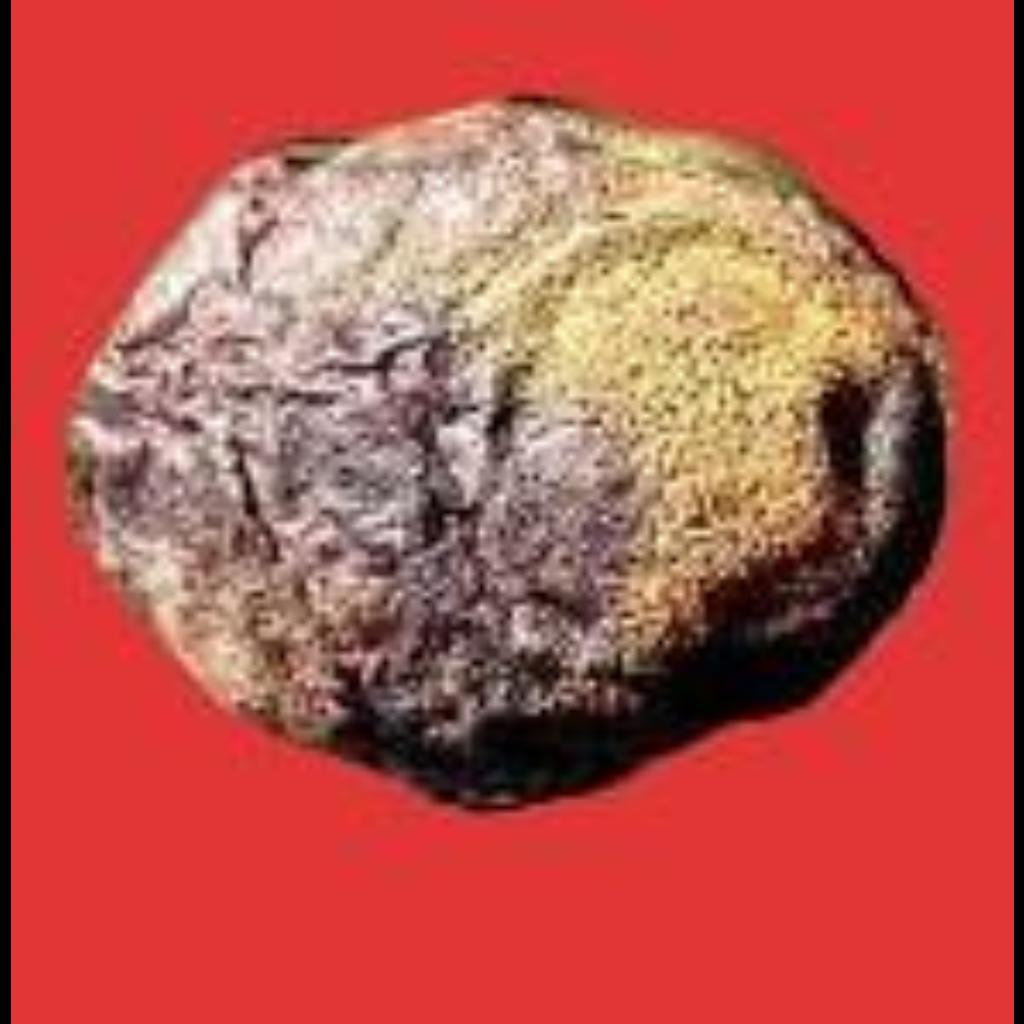antracnosis_fruto: (96, 120, 914, 752)
